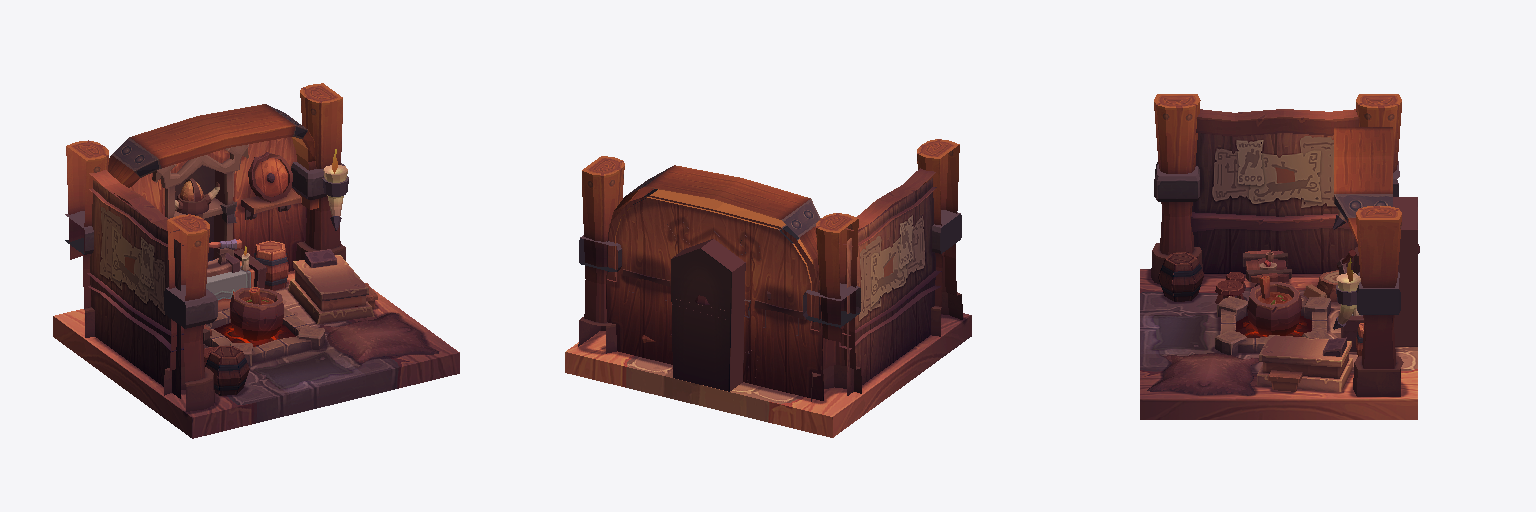
3 views of the same model, side by side, from view 1: azimuth 30°, elevation 25°; view 2: azimuth 150°, elevation 25°; view 3: azimuth 270°, elevation 25° (orthographic).
Visible parts, largest first — view 1: Viking; view 2: Viking; view 3: Viking.
Part boxes in pixels (left/top/right/bottom): Viking: left=53, top=83, right=459, bottom=438; Viking: left=565, top=139, right=971, bottom=437; Viking: left=1140, top=94, right=1419, bottom=419.
Size of the model in its own units: 26.31 by 18.6 by 23.91.
Materials: 1 (1 with a texture image).